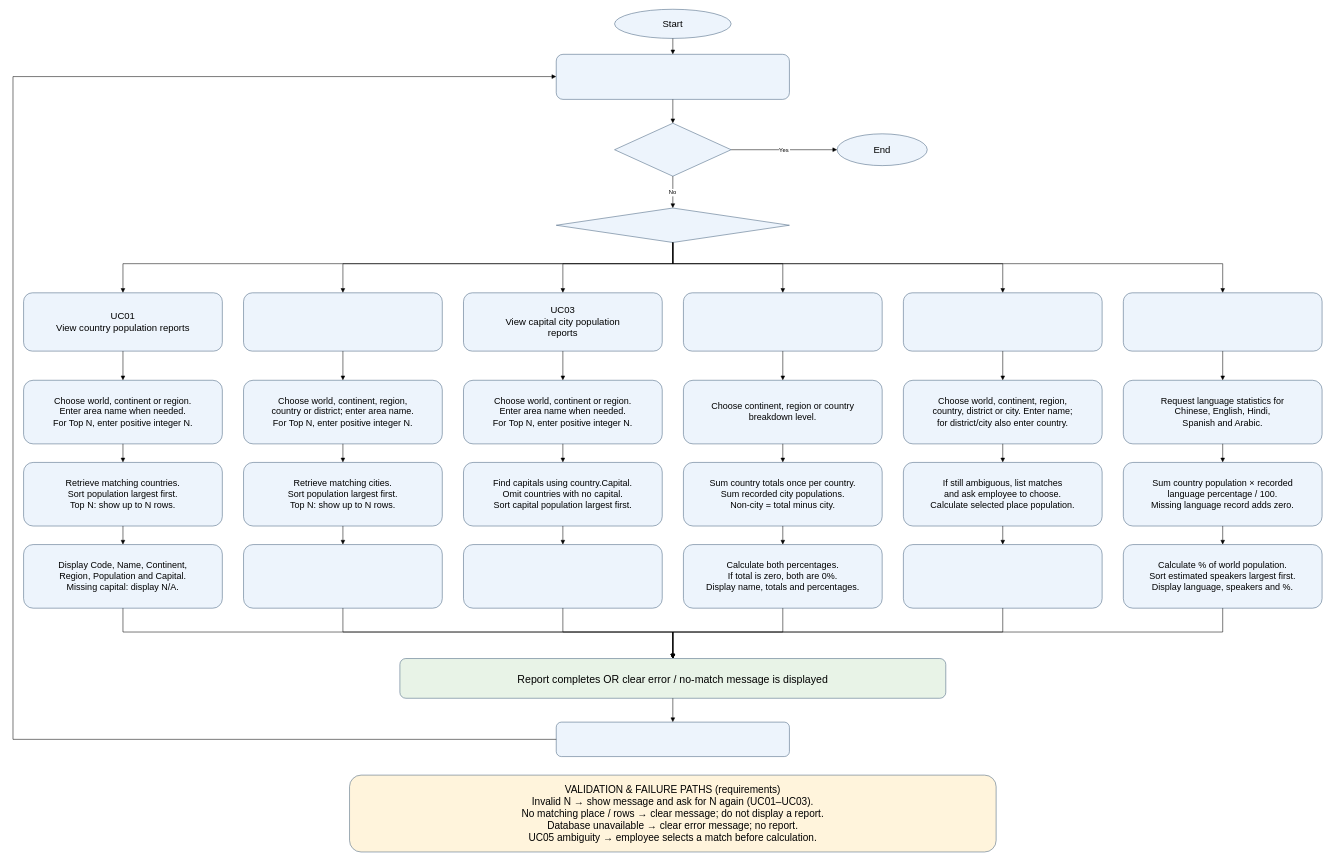
This 1331x861 diagram has some shape labels left out. The centre of each missing label's shape, as x and y in pixels:
Display Name, Country and Population. Top N: show up to N rows.: [562,576]
Display Name, Country, District and Population.: [342,576]
Display place and population. District total = sum of its recorded cities.: [1002,576]
Exit?: [672,149]
Return to report menu: [672,739]
Select use case (one branch): [672,224]
System shows report menu Employee chooses report or Exit: [672,76]
UC02 View city population reports: [342,321]
UC04 View city and non-city population breakdown: [782,321]
UC05 Look up the population of a place: [1002,321]
UC06 View language speaker statistics: [1222,321]
